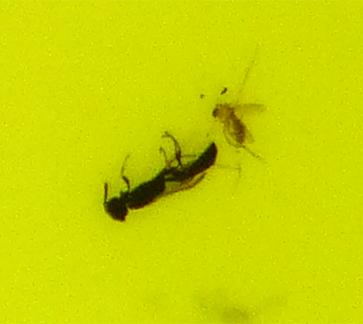Hymenoptera: (100, 129, 220, 224)
Nematocera: (209, 100, 263, 150)
